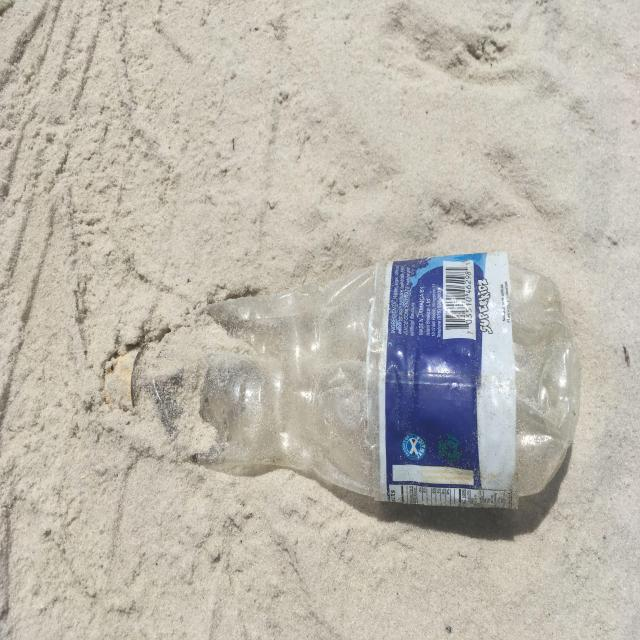litter: (108, 253, 599, 533)
